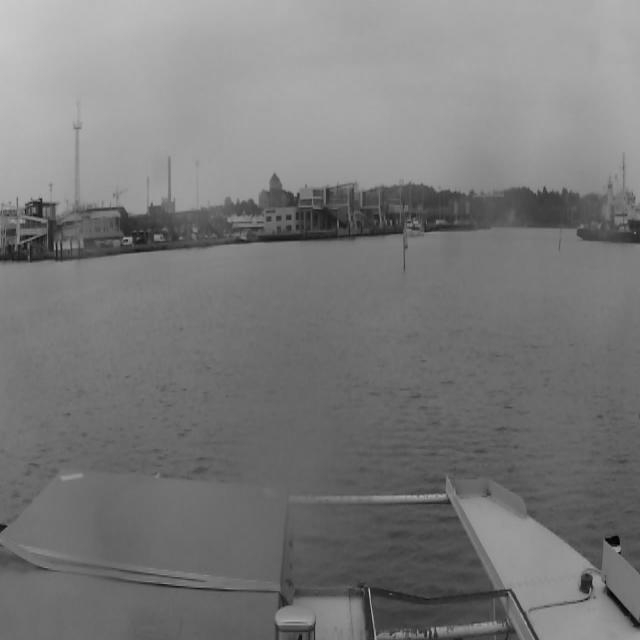buoy: (399, 231, 407, 269), (557, 225, 563, 250), (405, 223, 409, 249)
ship: (576, 176, 638, 242), (407, 218, 424, 236)
